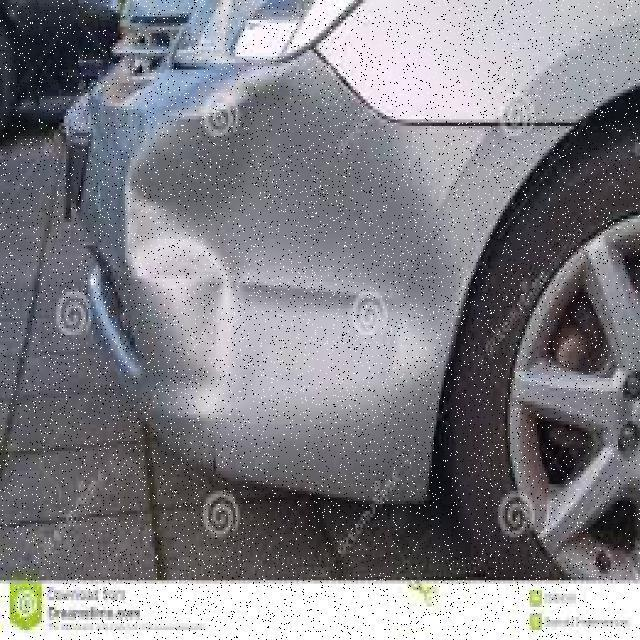front-bumper-dent: (7, 63, 525, 527)
